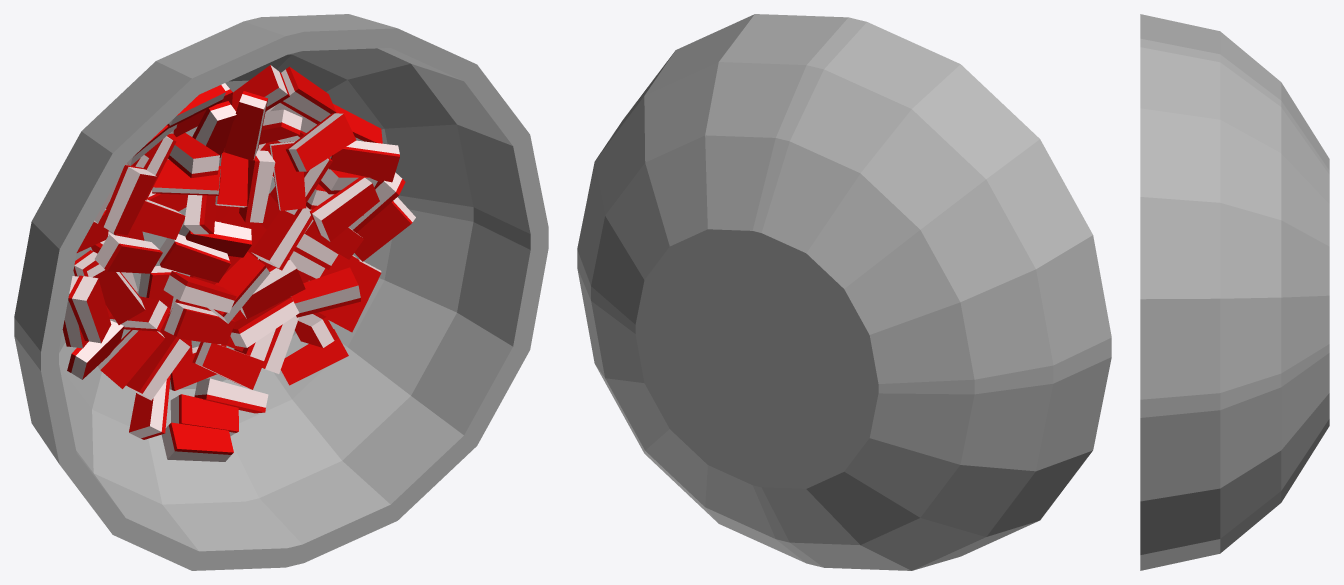
The model's file is crabBowl.fbx.
3 renders of one model, left to right at view 1: azimuth 30°, elevation 25°; view 2: azimuth 150°, elevation 25°; view 3: azimuth 270°, elevation 25°, orthographic. The views are drawn at different scales.
Visible parts, largest first — view 1: Plane.006, Cube.094; view 2: Plane.006; view 3: Plane.006.
Part boxes in pixels (left/top/right/bottom): Plane.006: left=14, top=14, right=548, bottom=570; Cube.094: left=62, top=65, right=415, bottom=461; Plane.006: left=577, top=14, right=1111, bottom=570; Plane.006: left=1140, top=14, right=1329, bottom=570.
Size of the model in its own units: 84.75 by 84.75 by 29.16.
